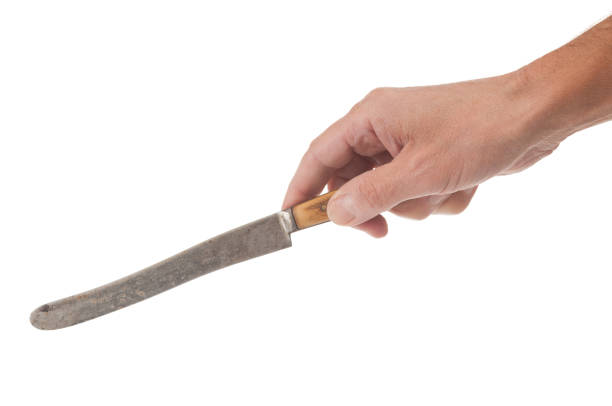knife: (27, 189, 339, 333)
